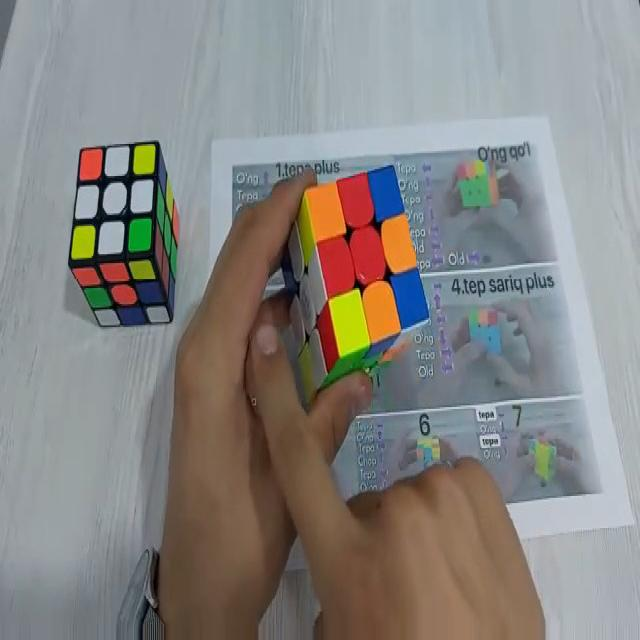Rub: (281, 165, 429, 401), (68, 140, 180, 330)
